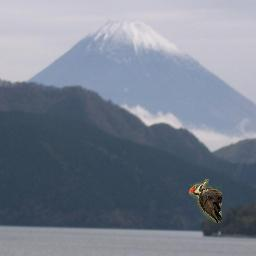Woodpecker: (190, 179, 223, 223)
